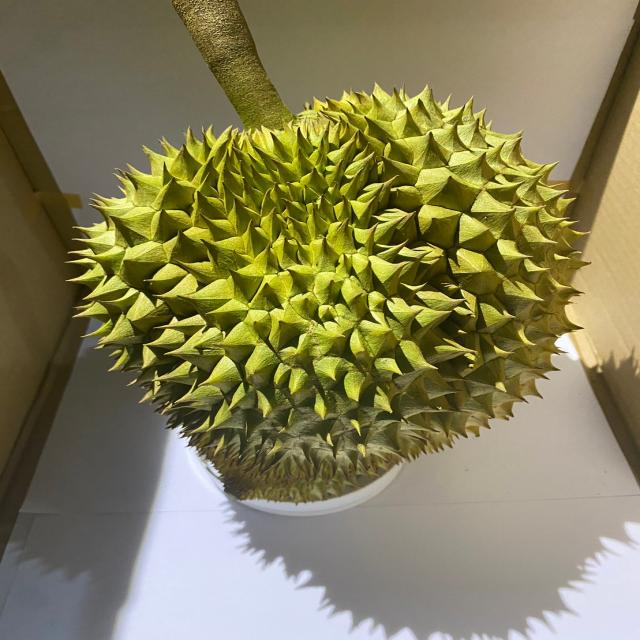immature: (67, 84, 598, 504)
